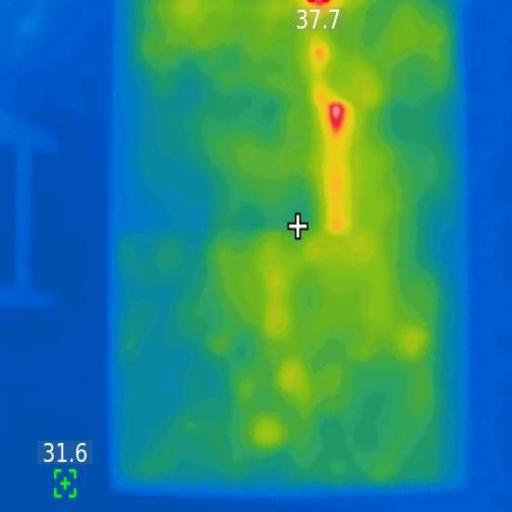hotspot: (326, 100, 347, 137), (304, 0, 336, 10)
